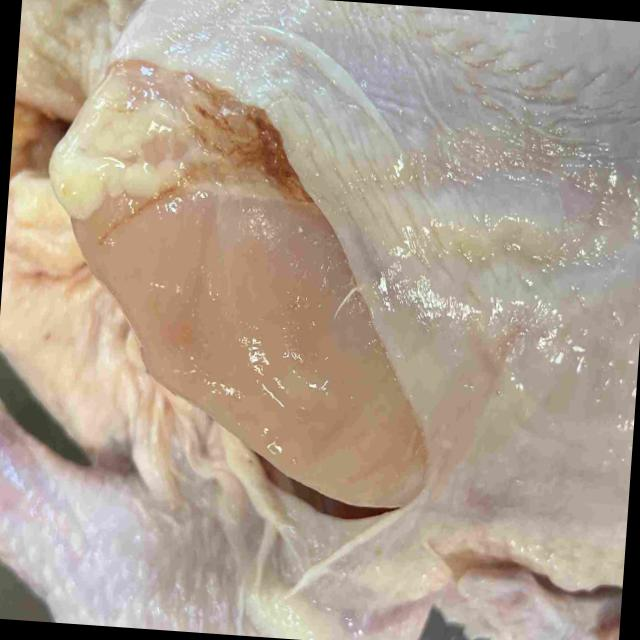breast: (54, 0, 640, 571)
leg: (0, 412, 437, 640)
